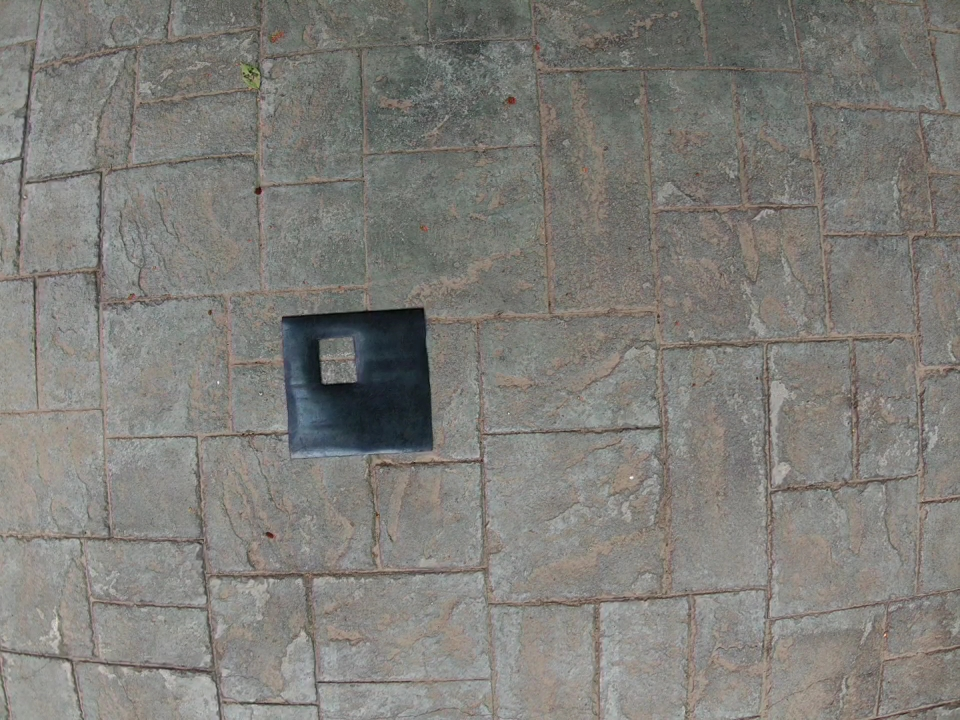qrcode: (282, 308, 433, 452)
